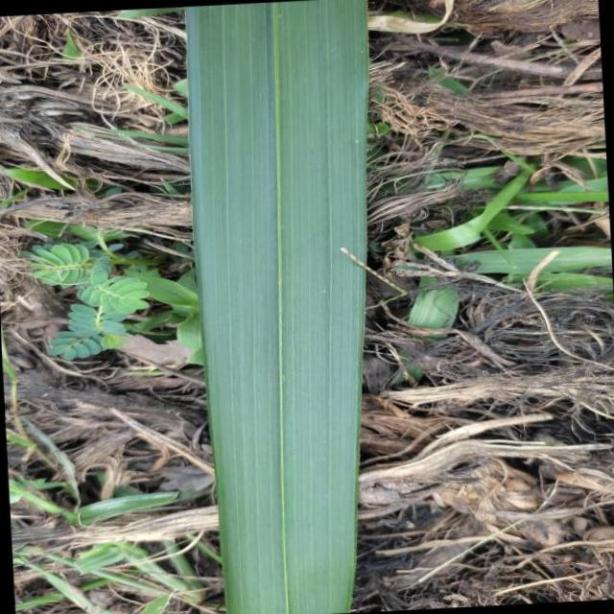Healthy: (185, 0, 371, 614)
